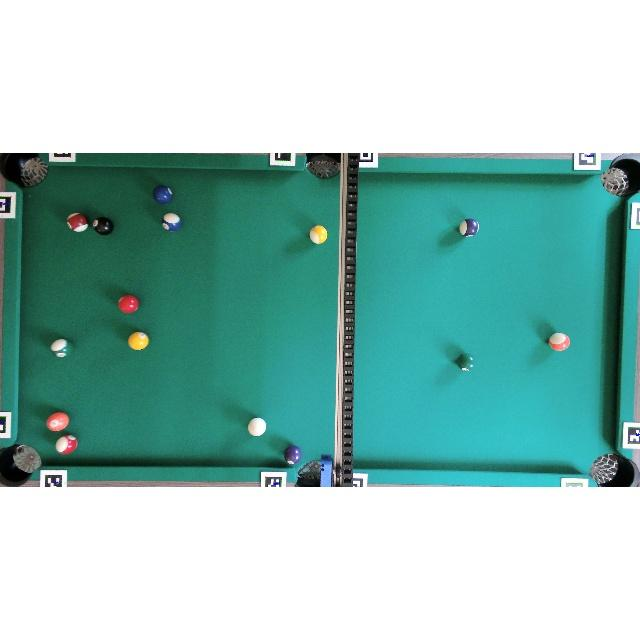cue ball: (247, 417, 267, 437)
other: (46, 412, 69, 432), (118, 294, 139, 314), (66, 213, 88, 232), (56, 435, 78, 454), (50, 338, 70, 358), (92, 216, 113, 235), (548, 333, 570, 351), (162, 212, 181, 232), (153, 184, 173, 203), (128, 332, 149, 350), (459, 219, 479, 237), (456, 353, 475, 371), (284, 445, 302, 464), (310, 226, 328, 244)
